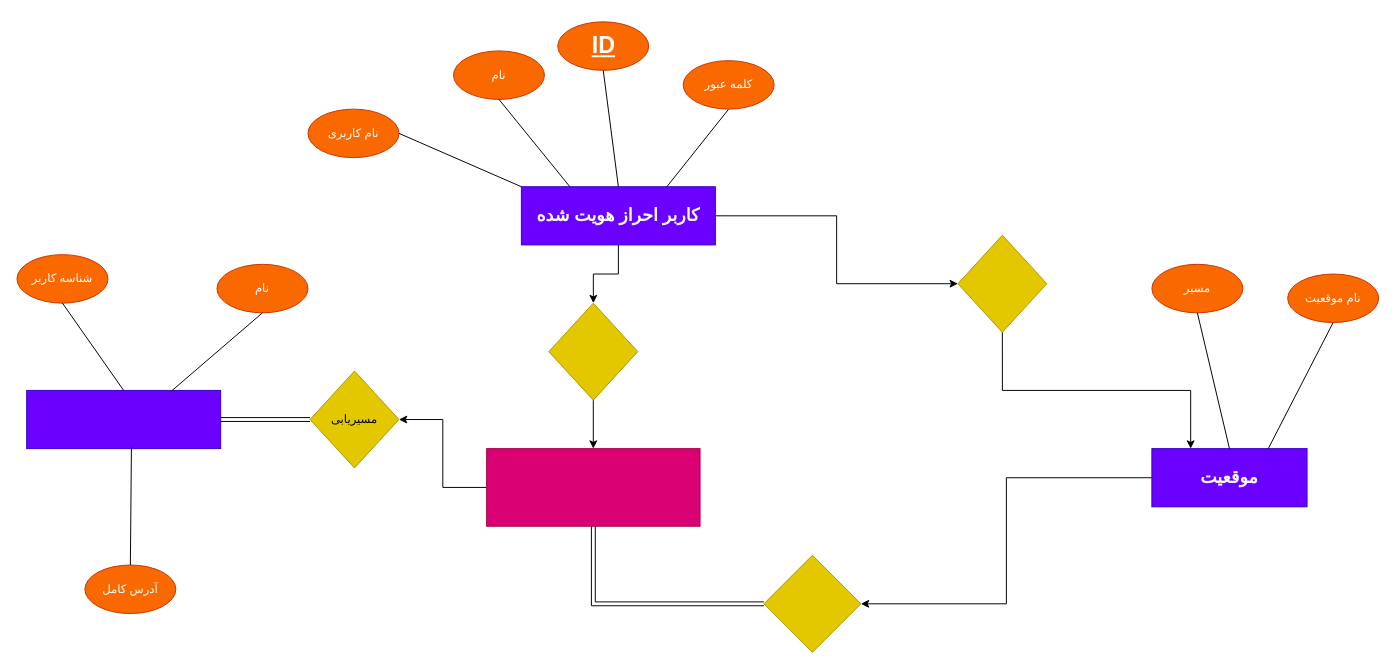
Image size: 1396x669. Some labels were removed from this diagram. Here are the shapes that lost their labels. From the top down, the centre of each, then its label:
[1002,283]: متن
[593,351]: درخواست
[123,419]: مقصد نهایی
[593,487]: سیستم موقعیت مکانی
[812,603]: یافتن
